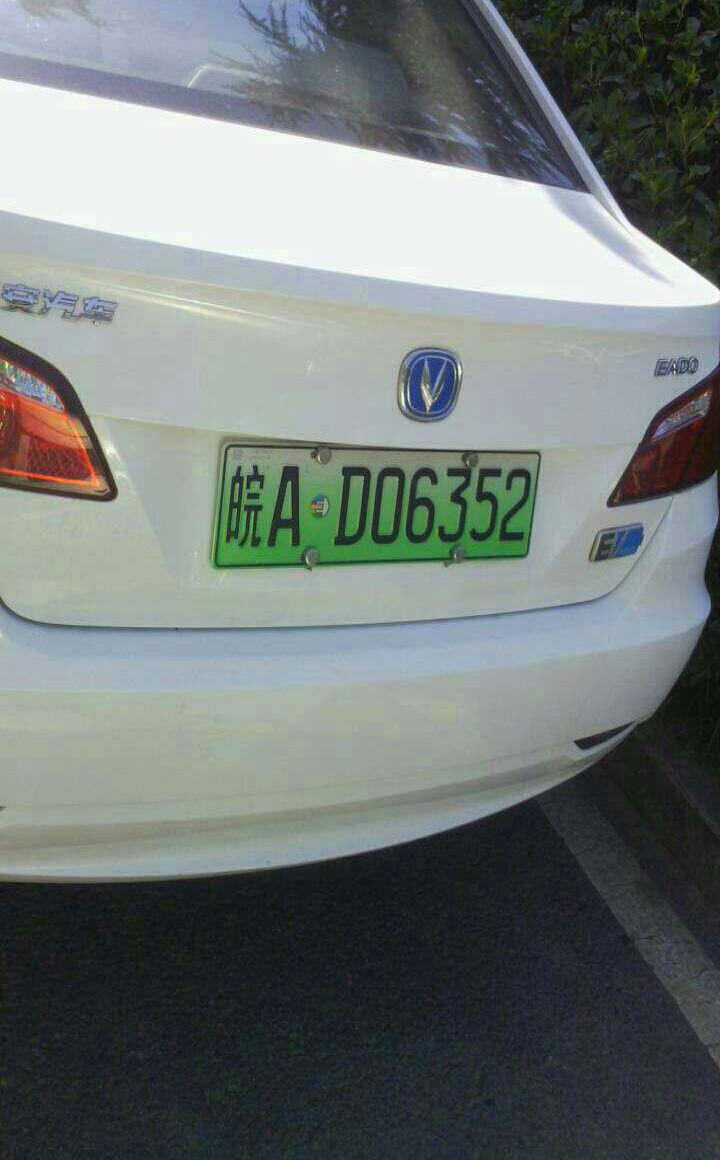car_id: (220, 443, 543, 566)
